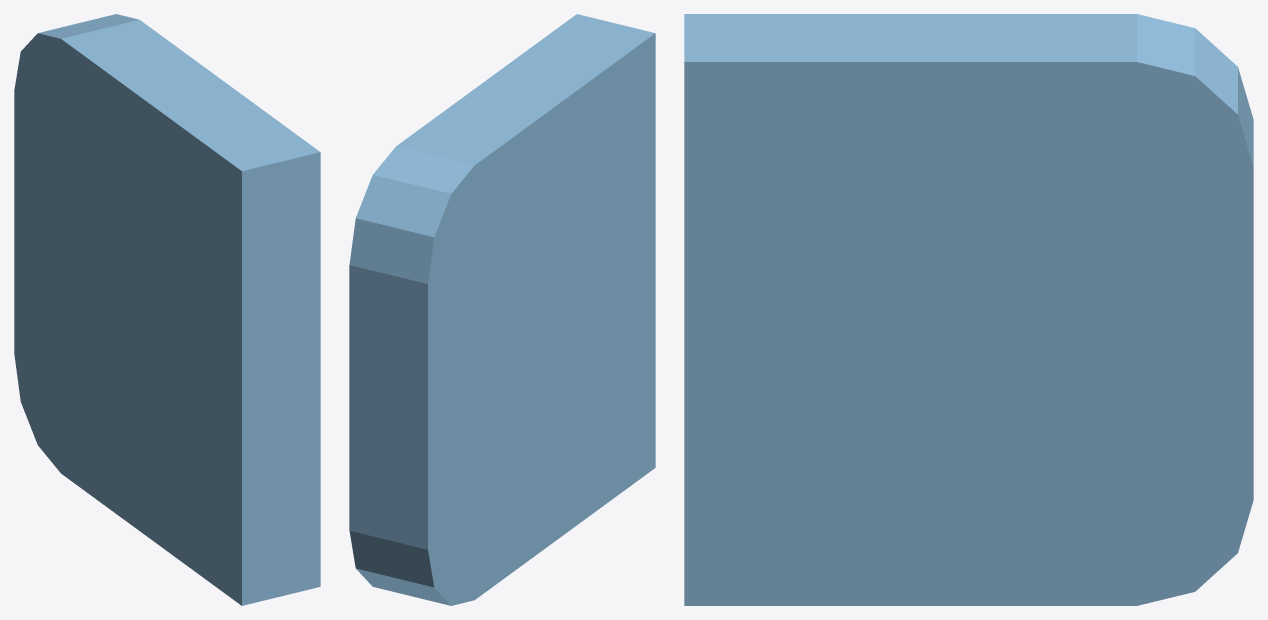
Rendered from screen.fbx.
The picture shows the model from 3 angles, left to right: view 1: azimuth 30°, elevation 25°; view 2: azimuth 150°, elevation 25°; view 3: azimuth 270°, elevation 25°; orthographic projection. The views are drawn at different scales.
Visible parts, largest first — view 1: Cube; view 2: Cube; view 3: Cube.
Boxes of the visible parts, x1,y1,x2,y2 form: Cube: (14,14,320,605); Cube: (349,14,655,605); Cube: (684,14,1253,605).
Bounding box in the file's own units: 37.82 × 200 × 190.
